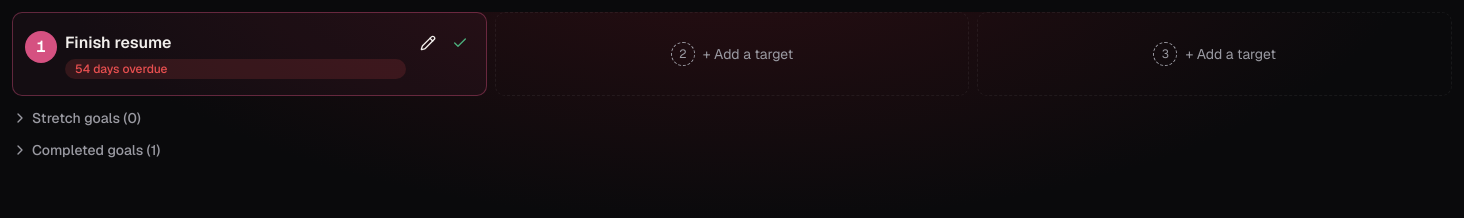
Scenario: TargetsStrip — Completed goals › lists every completed goal's title and formatted date when expanded
The width and height of the screenshot is (1464, 218).
Click the button "Completed goals (1)".
click(91, 150)  # box [12,140,1452,160]
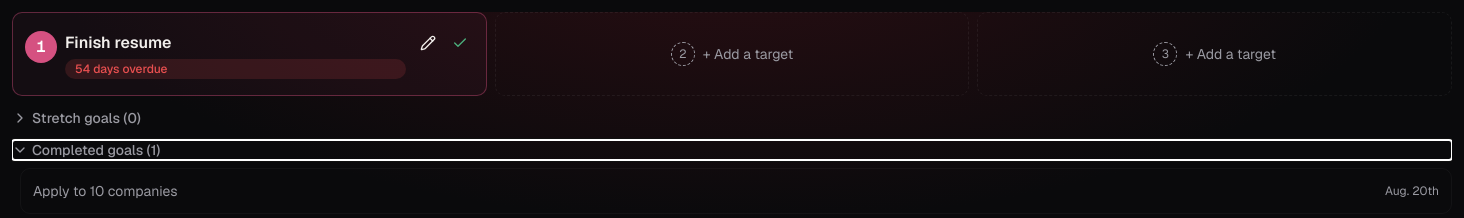
Result: the text "Apply to 10 companies" is shown at [33,181,178,201]
Result: the text "Aug. 20th" is shown at [1385,183,1439,199]
